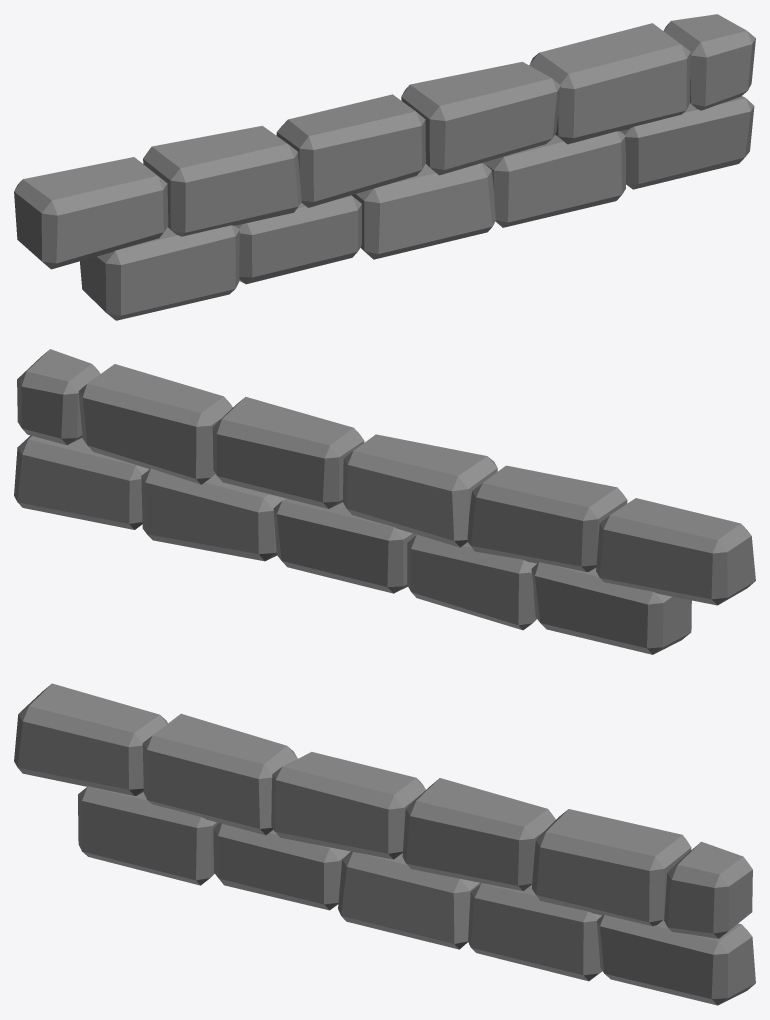
The model's file is BrickWall2mSection_01_End_L.fbx.
The picture shows the model from 3 angles, top to bottom: view 1: azimuth 30°, elevation 25°; view 2: azimuth 150°, elevation 25°; view 3: azimuth 330°, elevation 25°; orthographic projection.
Visible parts, largest first — view 1: BrickWall2mSection_01_End_L; view 2: BrickWall2mSection_01_End_L; view 3: BrickWall2mSection_01_End_L.
Boxes of the visible parts, x1,y1,x2,y2 form: BrickWall2mSection_01_End_L: [14, 14, 755, 320]; BrickWall2mSection_01_End_L: [14, 349, 755, 654]; BrickWall2mSection_01_End_L: [14, 683, 755, 1005].
Size of the model in its own units: 221 by 41.78 by 21.66.
